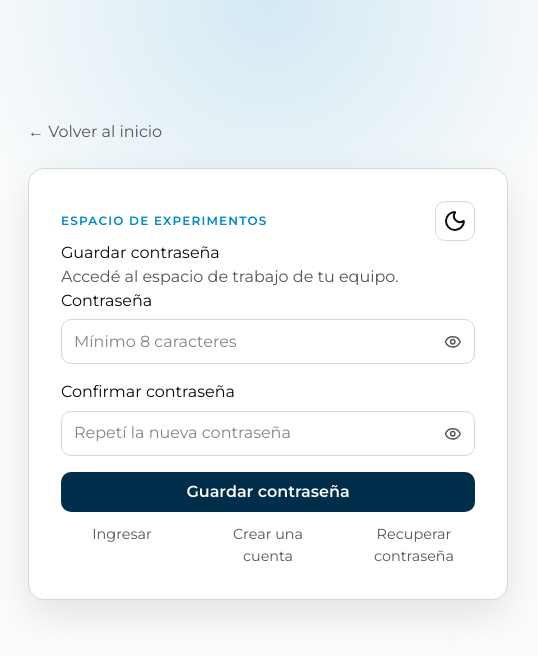
Test case: application routes › uses the recovery link token without rendering the manual code input
The image size is (538, 656).
Check: the heading "Guardar contraseña" is shown, box [61,243,220,262]
In the password field labelled "Contraseña": x=268, y=342 [61,319,475,364], type "contraseña-segura"
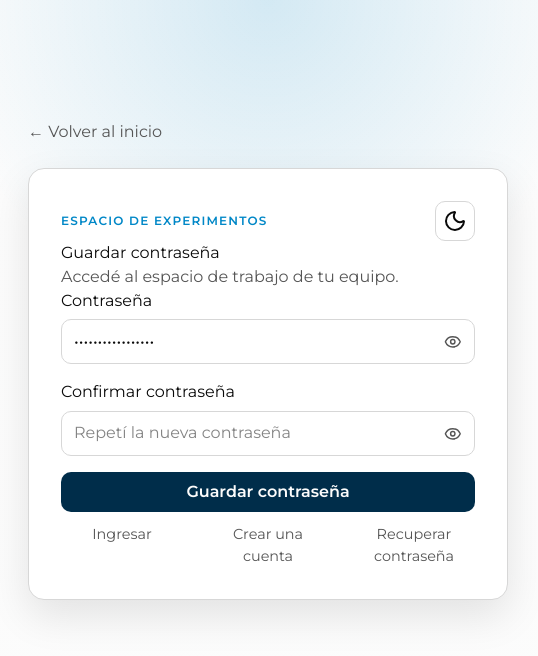
In the password field labelled "Confirmar contraseña": x=268, y=433 [61,411,475,456], type "contraseña-segura"
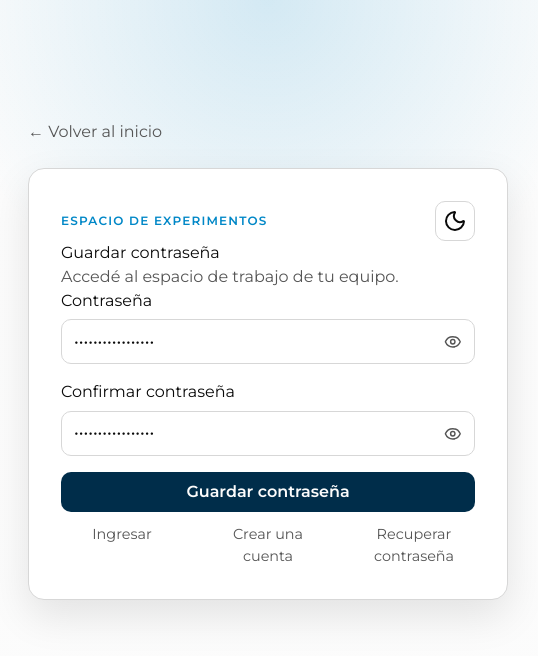
Click the button "Guardar contraseña": x=268, y=492 [61,472,475,512]
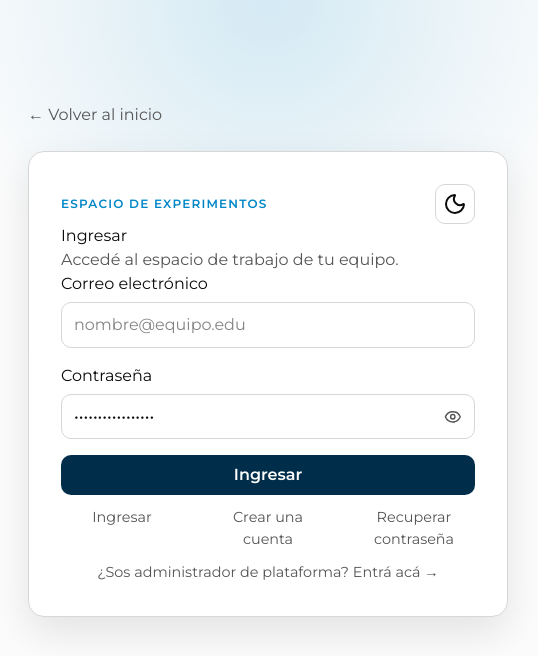
Check: the heading "Ingresar" is shown, box [61,226,127,245]
